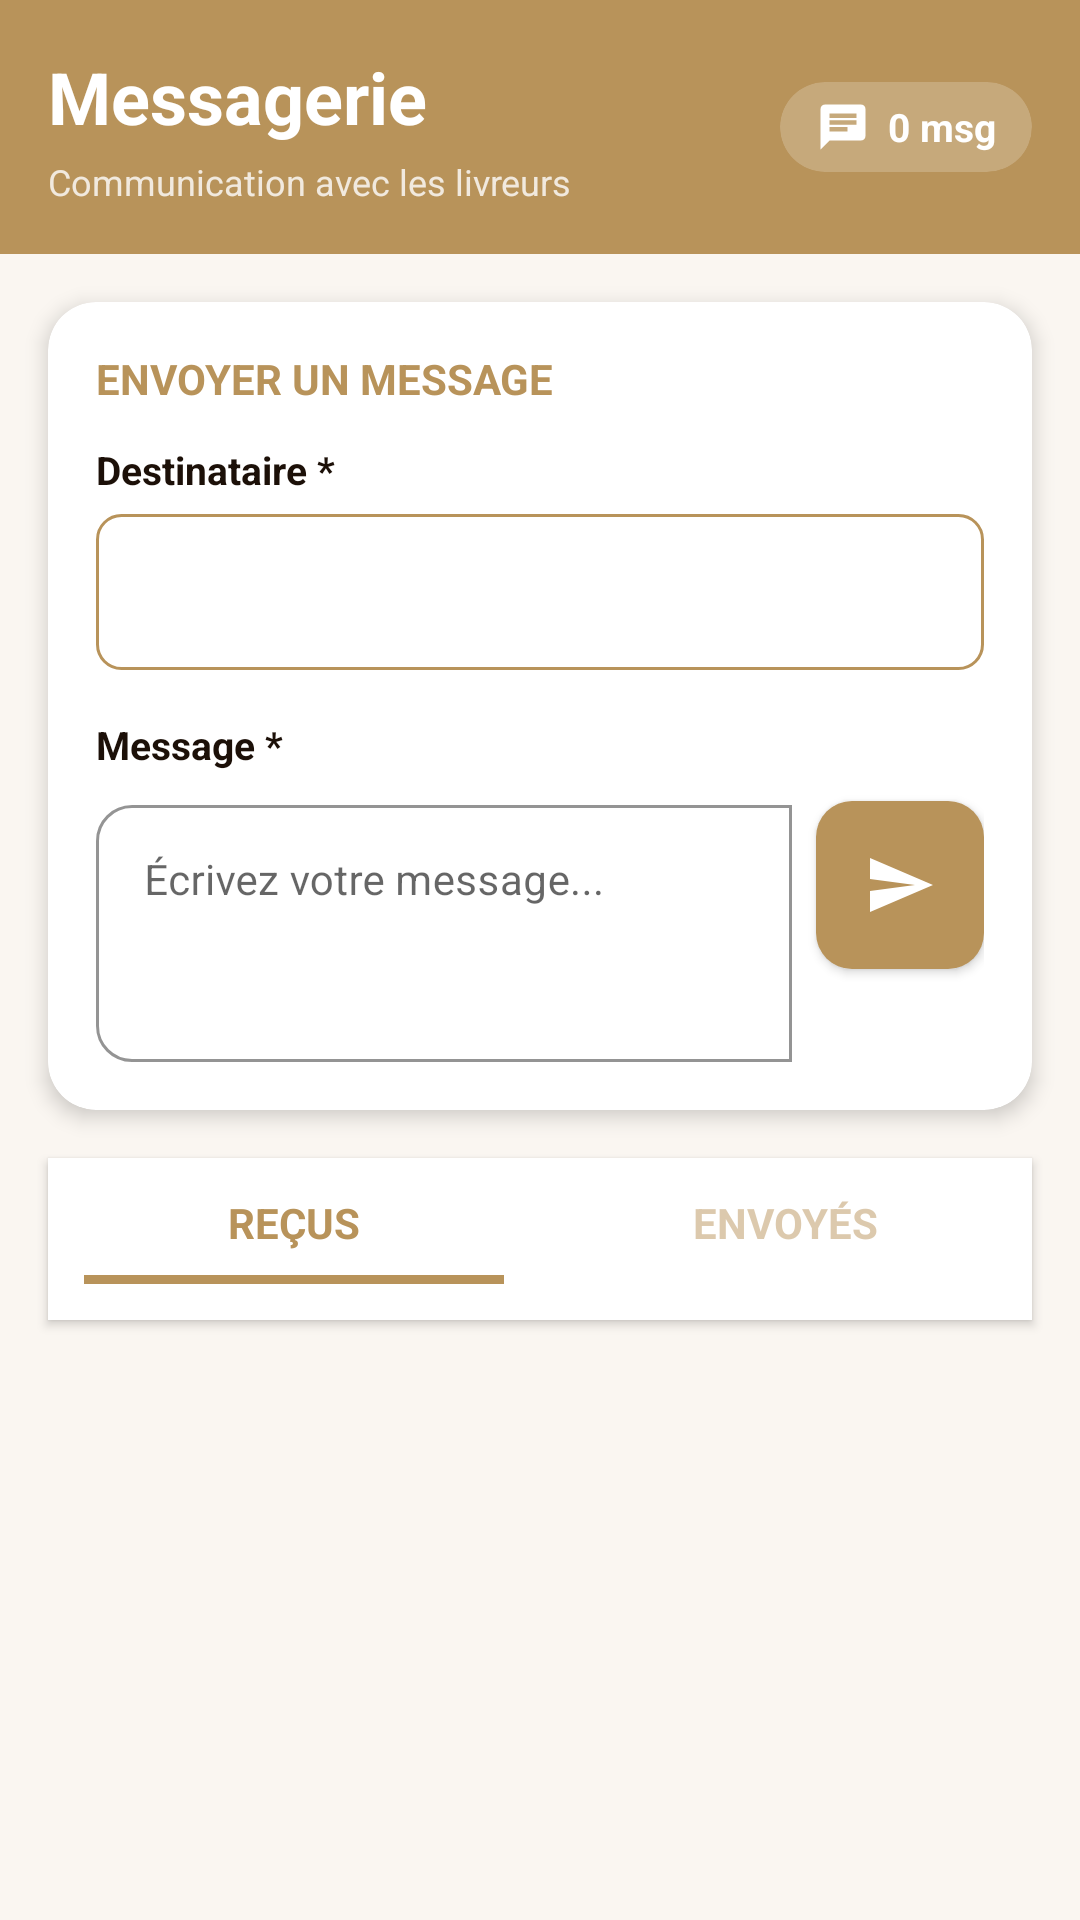

Icons on this 1080 x 1920 Android screen, each with the point to tap as [x,y]:
message: [843,127]
